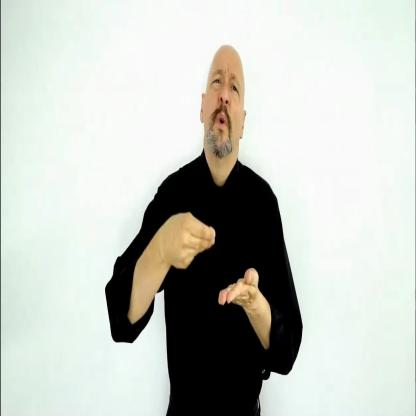Expensive: (163, 193, 260, 337)
